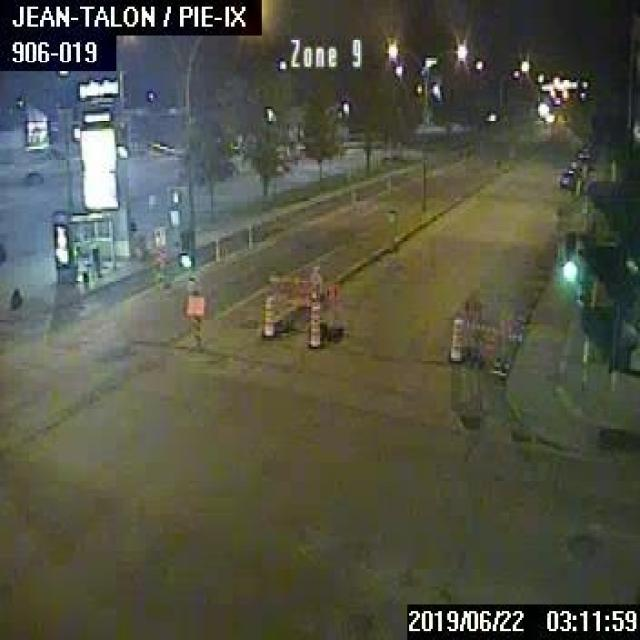construction: (267, 264, 345, 342), (459, 295, 521, 374), (446, 315, 464, 361), (305, 300, 321, 348), (260, 296, 273, 338)
pedestrian: (90, 242, 100, 278), (9, 288, 21, 306)
vehicle: (558, 168, 574, 185), (567, 157, 580, 170), (577, 146, 589, 157)
